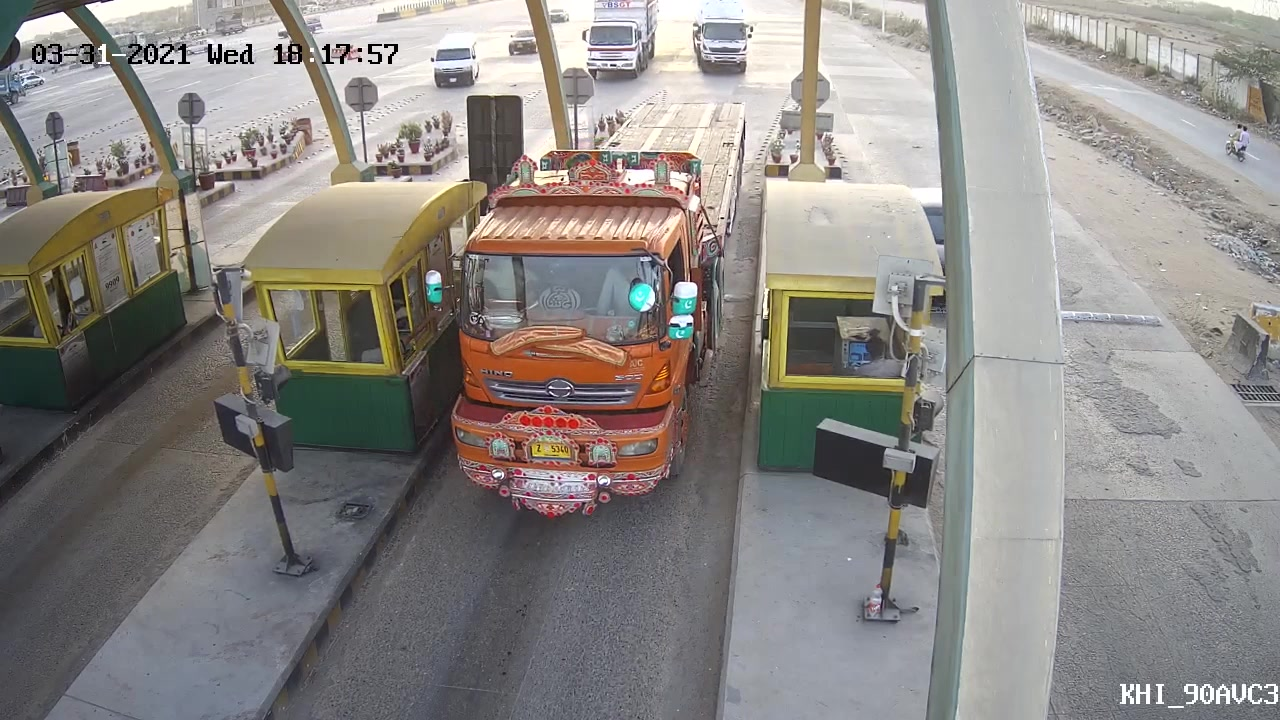F6: (418, 116, 751, 526)
